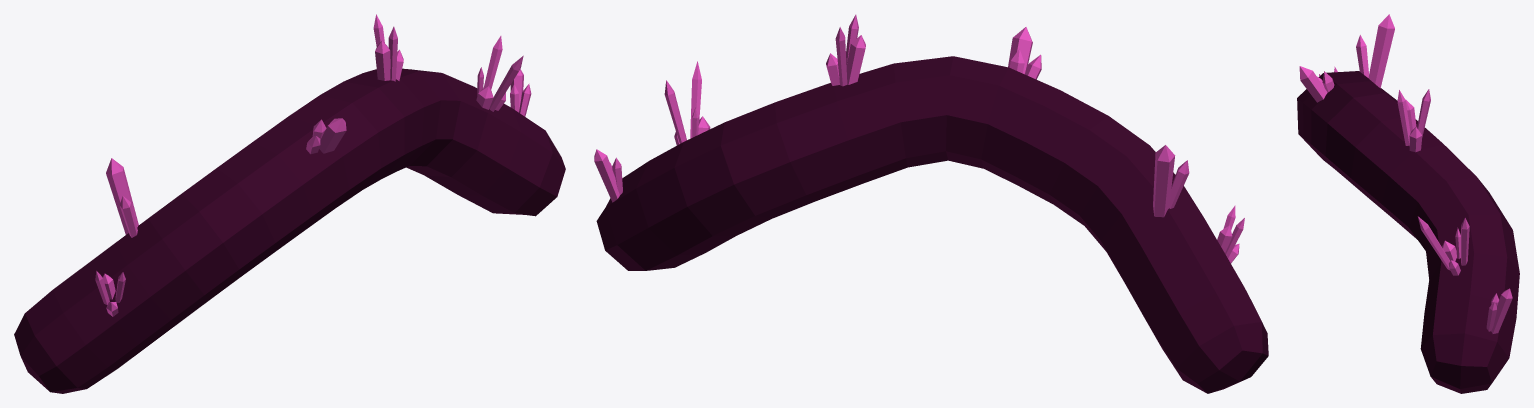
Rendered from roots_3.fbx.
3 renders of one model, left to right at view 1: azimuth 30°, elevation 25°; view 2: azimuth 150°, elevation 25°; view 3: azimuth 270°, elevation 25°, orthographic. The views are drawn at different scales.
Visible parts, largest first — view 1: roots_3; view 2: roots_3; view 3: roots_3.
Part boxes in pixels (left/top/right/bottom): roots_3: left=14, top=14, right=565, bottom=393; roots_3: left=594, top=14, right=1268, bottom=393; roots_3: left=1297, top=14, right=1519, bottom=393.
Size of the model in its own units: 300 by 138 by 109.
